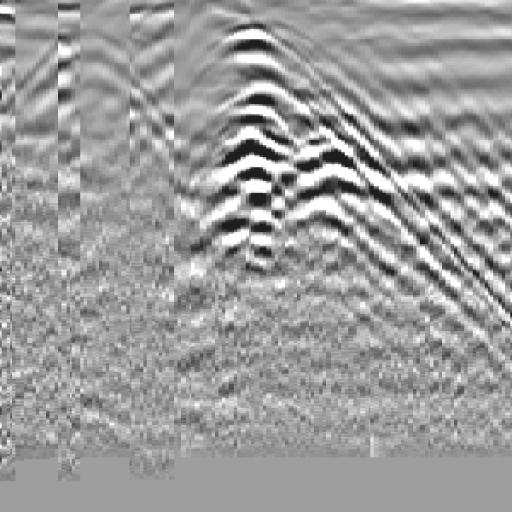metalic: (210, 100, 512, 354), (163, 23, 359, 304)
